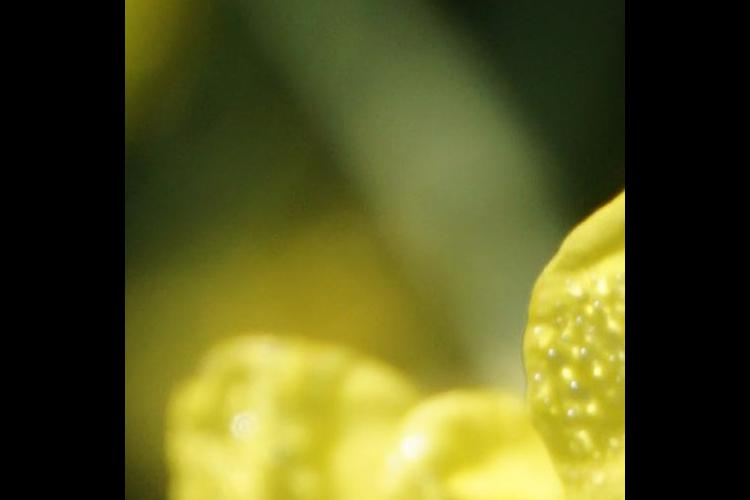yellow: (178, 189, 626, 500)
